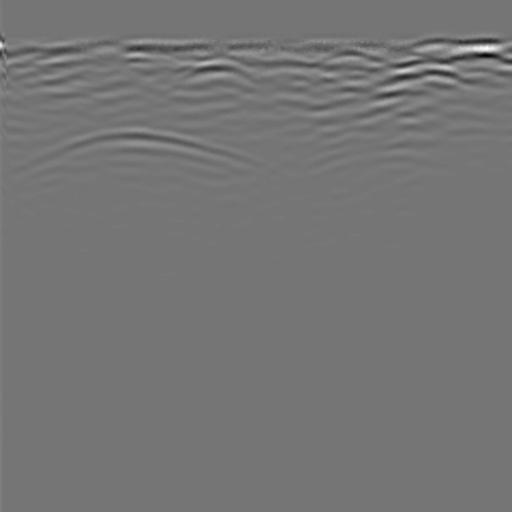hyperbola: (3, 116, 280, 236)
